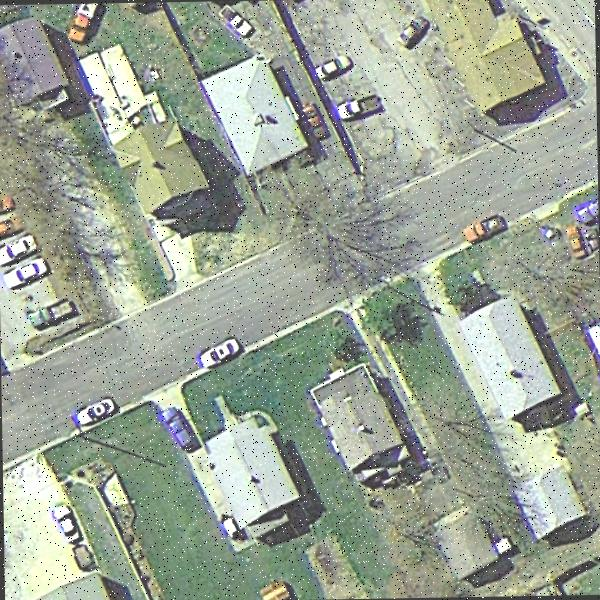Buildings: (438, 0, 533, 112), (215, 48, 294, 170), (209, 423, 300, 520), (473, 292, 546, 406), (109, 124, 193, 220), (327, 375, 398, 464), (523, 464, 588, 548), (4, 29, 57, 101), (440, 514, 484, 570)
